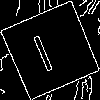I: (26, 25, 57, 73)
